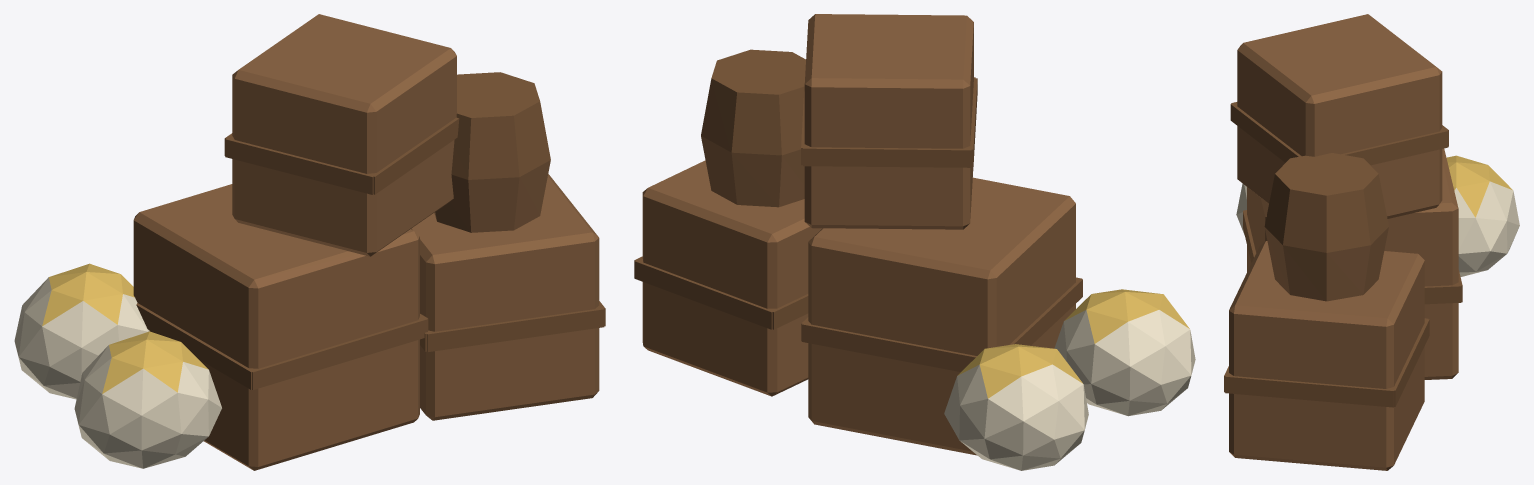
Rendered from CargoStack.obj.
3 renders of one model, left to right at view 1: azimuth 30°, elevation 25°; view 2: azimuth 150°, elevation 25°; view 3: azimuth 270°, elevation 25°, orthographic. The views are drawn at different scales.
Size of the model in its own units: 4.25 by 2.7 by 2.28.
